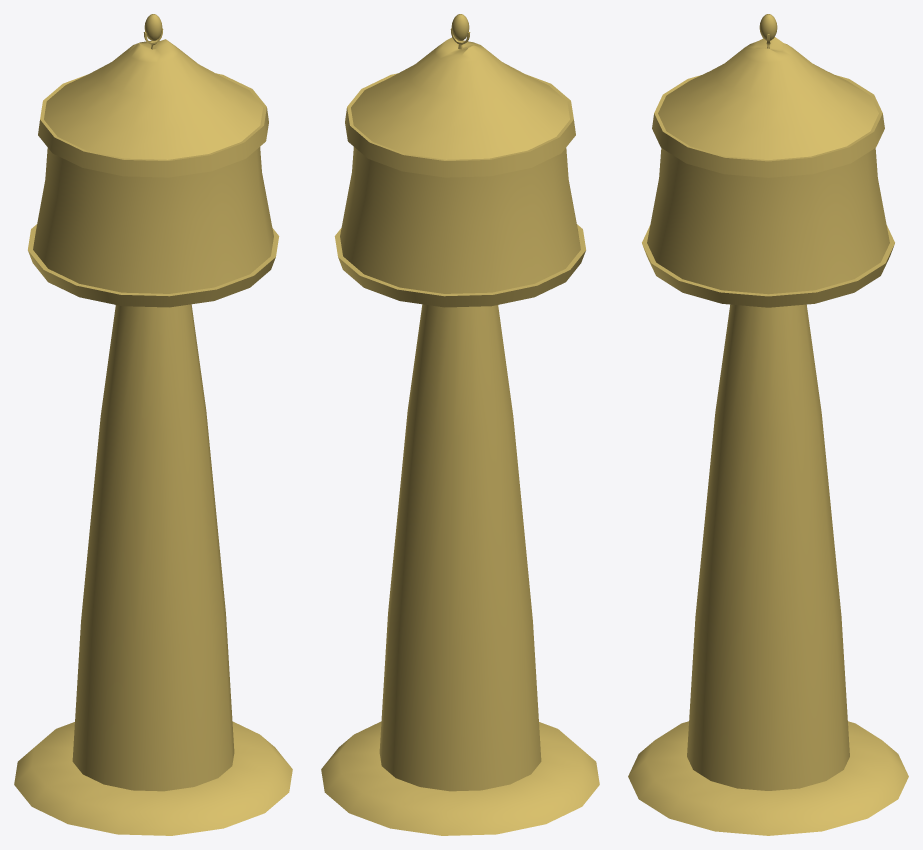
The model's file is GR Lamp 2.fbx.
3 renders of one model, left to right at view 1: azimuth 30°, elevation 25°; view 2: azimuth 150°, elevation 25°; view 3: azimuth 270°, elevation 25°, orthographic.
Parts seen in each view (by area): view 1: Body, Screen; view 2: Body, Screen; view 3: Body, Screen.
Boxes of the visible parts, box(x1,y1,x2,y2) form: Body: box(14, 39, 292, 835); Screen: box(33, 147, 273, 293); Body: box(321, 37, 599, 835); Screen: box(340, 147, 580, 293); Body: box(628, 37, 908, 835); Screen: box(647, 148, 889, 294).
Size of the model in its own units: 48.59 by 145 by 48.59.
